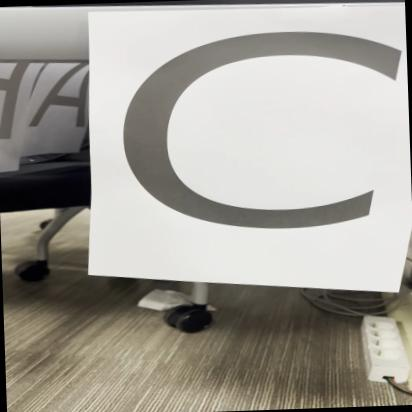seat: (103, 0, 412, 289)
